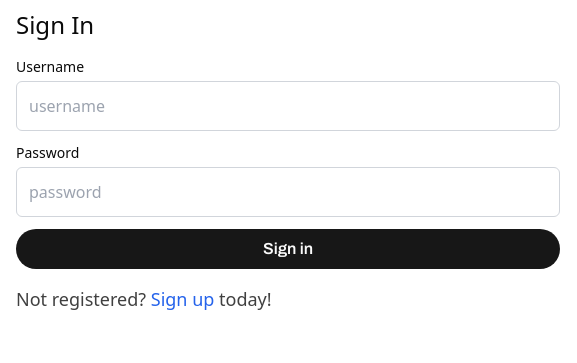
Test: SignInForm › shows a generic auth error for bad credentials
Type "member1" into the field labelled "Username" at (288, 106), box [16,81,560,131]
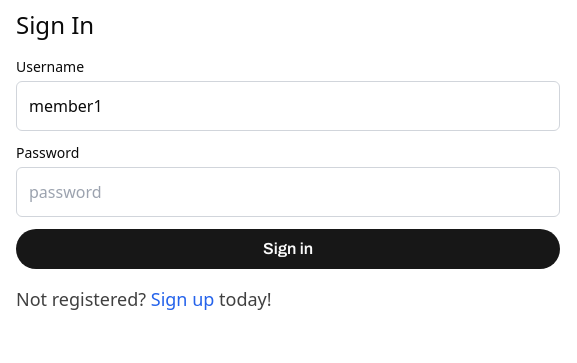
Type "password1" into the password field labelled "Password" at (288, 192), box [16,167,560,217]
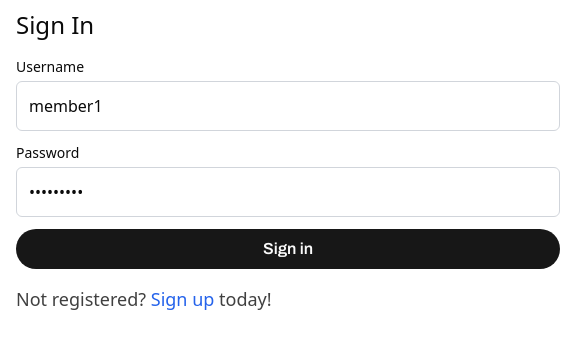
Click the button "Sign in" at (288, 249), box [16,229,560,269]
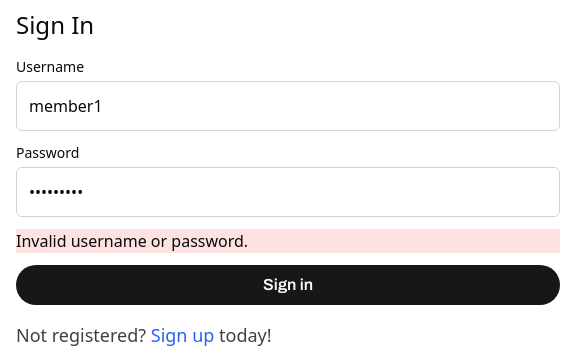
Expected: the message reads "Invalid username or password.", [16,230,248,252]
